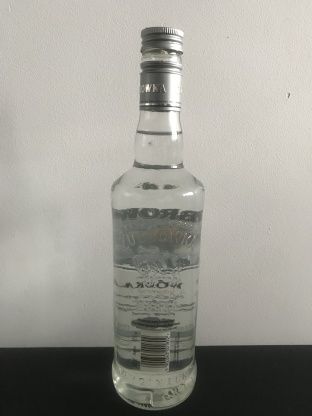nakretka: (138, 26, 184, 112)
